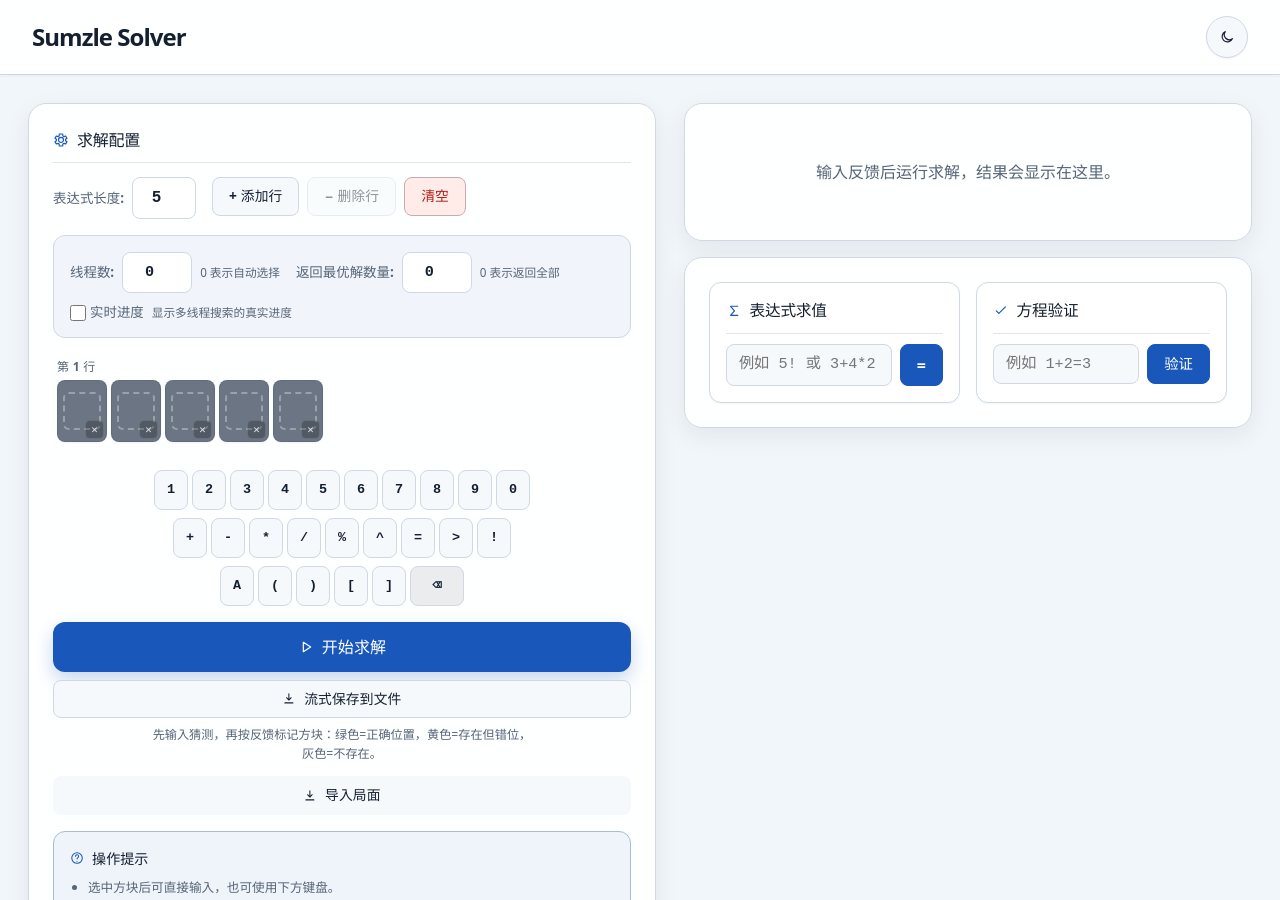
it: App › never renders more than MAX_LENGTH tiles for an extremely large input (issue #29)
Replace the text in the number field labelled "表达式长度:" with "1000000" at x=164, y=198, box top-left (132, 177), bottom-right (196, 219)
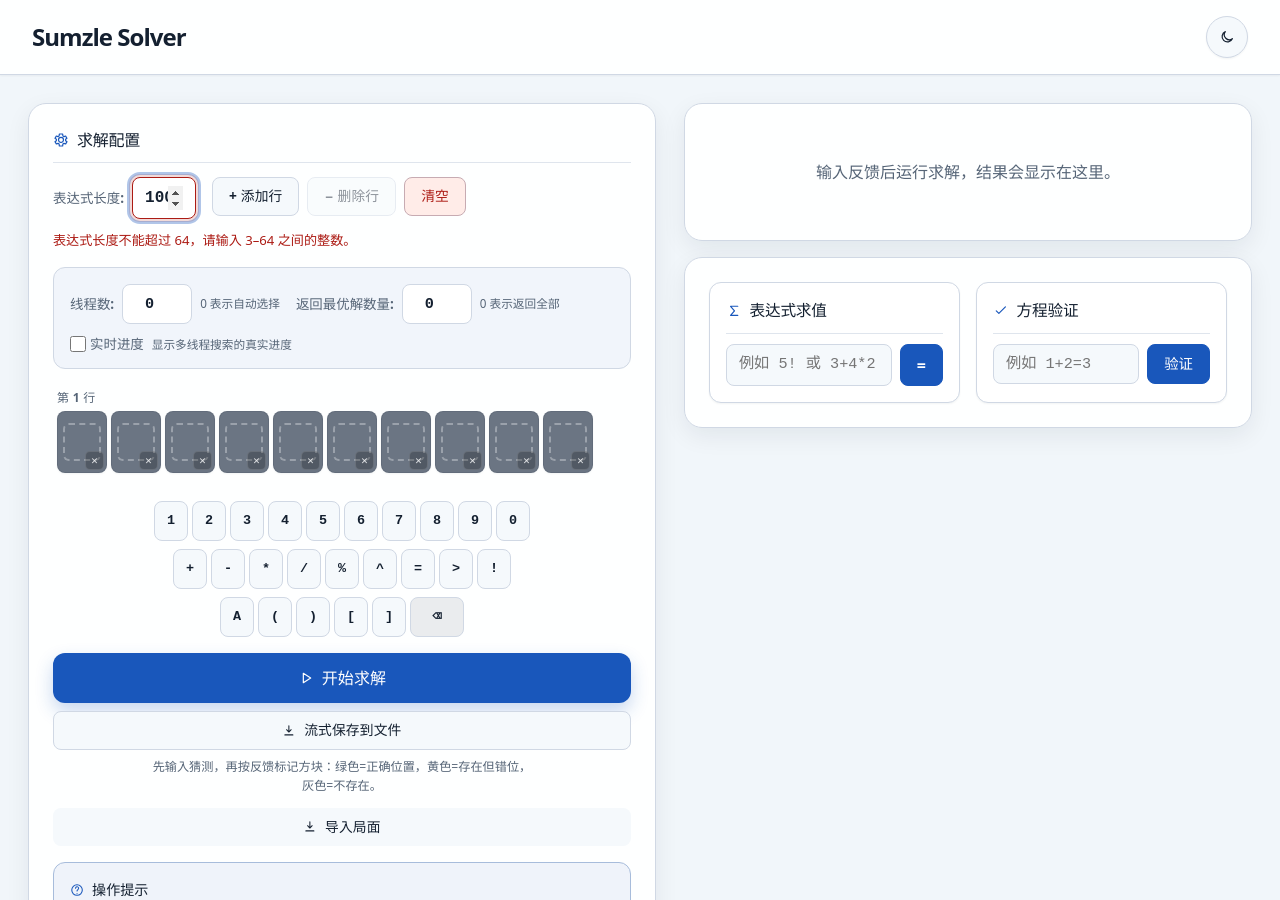
Result: the message "表达式长度不能超过 64，请输入 3–64 之间的整数。" is shown at top-left (53, 231), bottom-right (356, 249)
Note: On blur, the input is normalized to the maximum supported value.
Press Tab
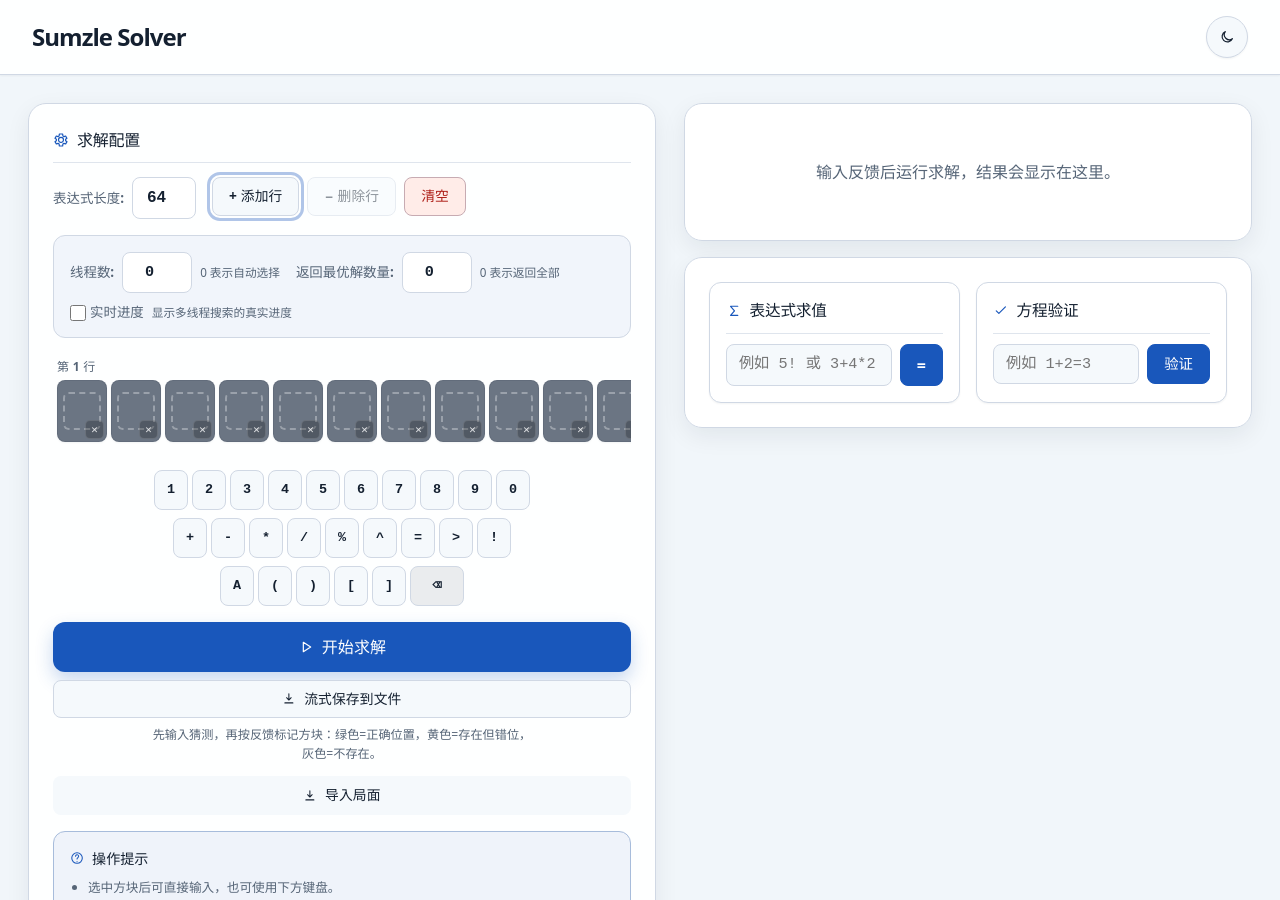
Result: the number field labelled "表达式长度:" holds "64" at top-left (132, 177), bottom-right (196, 219)
Result: the number of fields named "输入方块字符" is 64
Result: the message "表达式长度不能超过 64，请输入 3–64 之间的整数。" is gone
